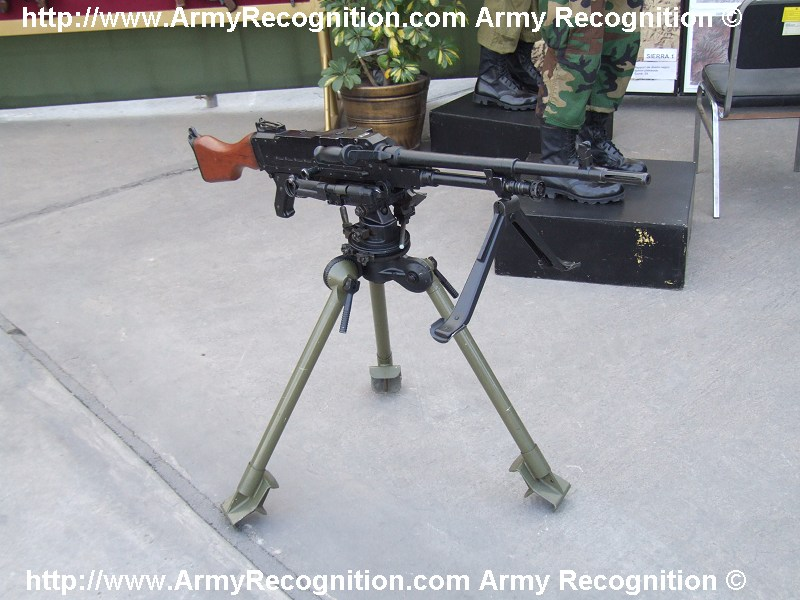rifle: (132, 85, 653, 575)
